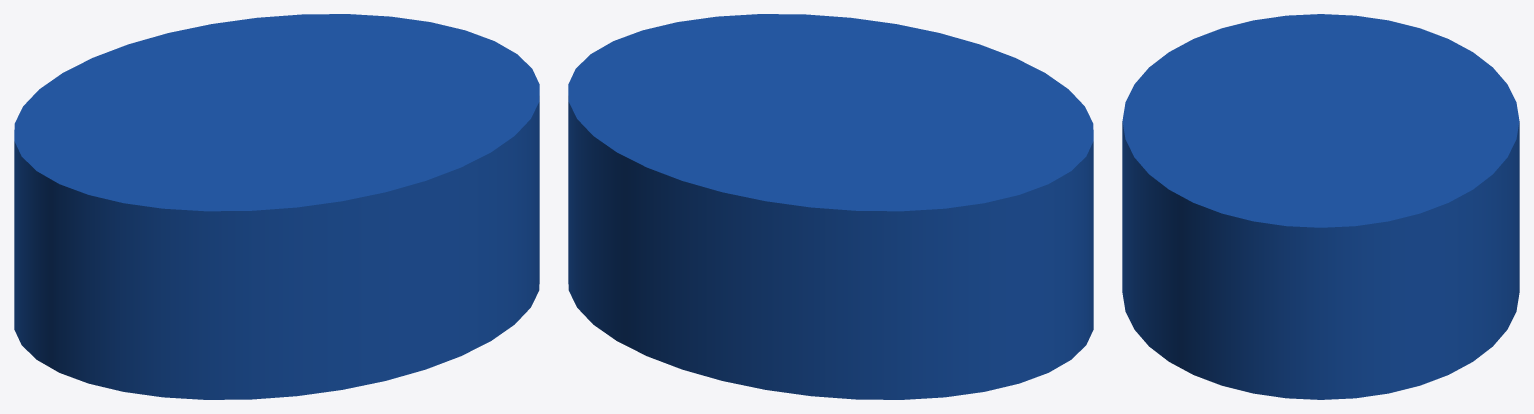
File: blue.FBX
3 renders of one model, left to right at view 1: azimuth 30°, elevation 25°; view 2: azimuth 150°, elevation 25°; view 3: azimuth 270°, elevation 25°, orthographic. The views are drawn at different scales.
Visible parts, largest first — view 1: Cylinder001; view 2: Cylinder001; view 3: Cylinder001.
Boxes of the visible parts, x1,y1,x2,y2 form: Cylinder001: (14, 14, 539, 399); Cylinder001: (568, 14, 1093, 399); Cylinder001: (1122, 14, 1519, 399).
Size of the model in its own units: 40 by 15.02 by 31.39.
